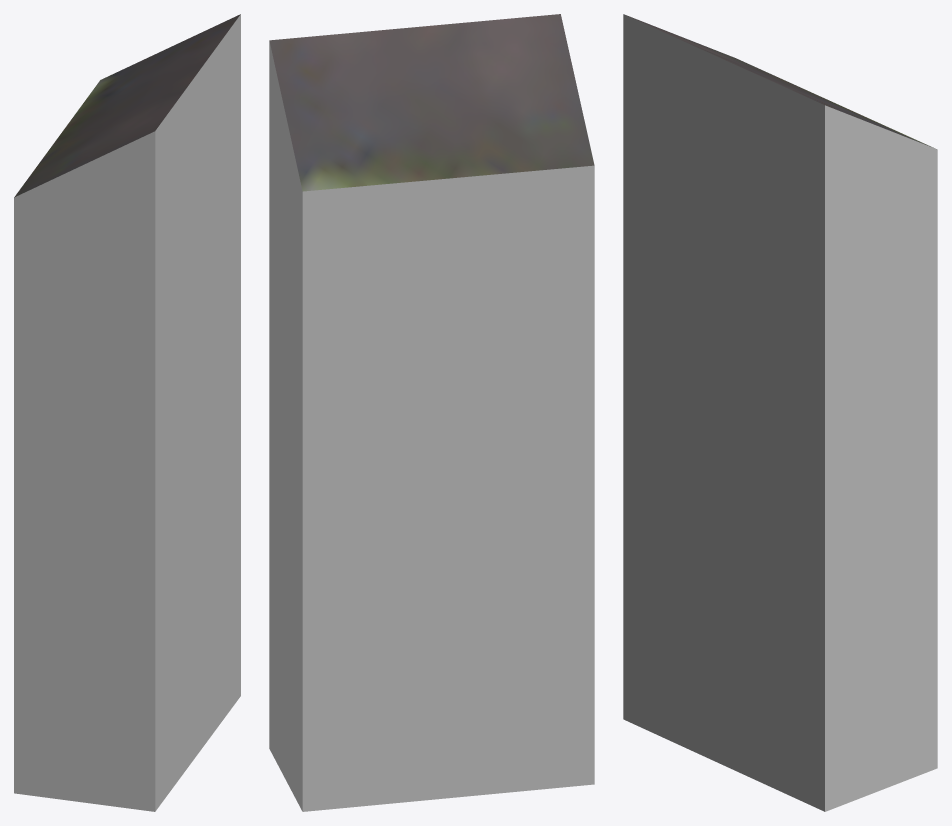
File: DEBW_0010007THXT.gltf
3 renders of one model, left to right at view 1: azimuth 30°, elevation 25°; view 2: azimuth 150°, elevation 25°; view 3: azimuth 270°, elevation 25°, orthographic. The views are drawn at different scales.
Parts seen in each view (by area): view 1: Z_UP; view 2: Z_UP; view 3: Z_UP.
Boxes of the visible parts, box(x1,y1,x2,y2) form: Z_UP: box(14, 14, 240, 811); Z_UP: box(269, 14, 594, 811); Z_UP: box(623, 14, 937, 811).
Bounding box in the file's own units: 4.85 × 11.71 × 4.72.
Materials: 2 (1 with a texture image).
